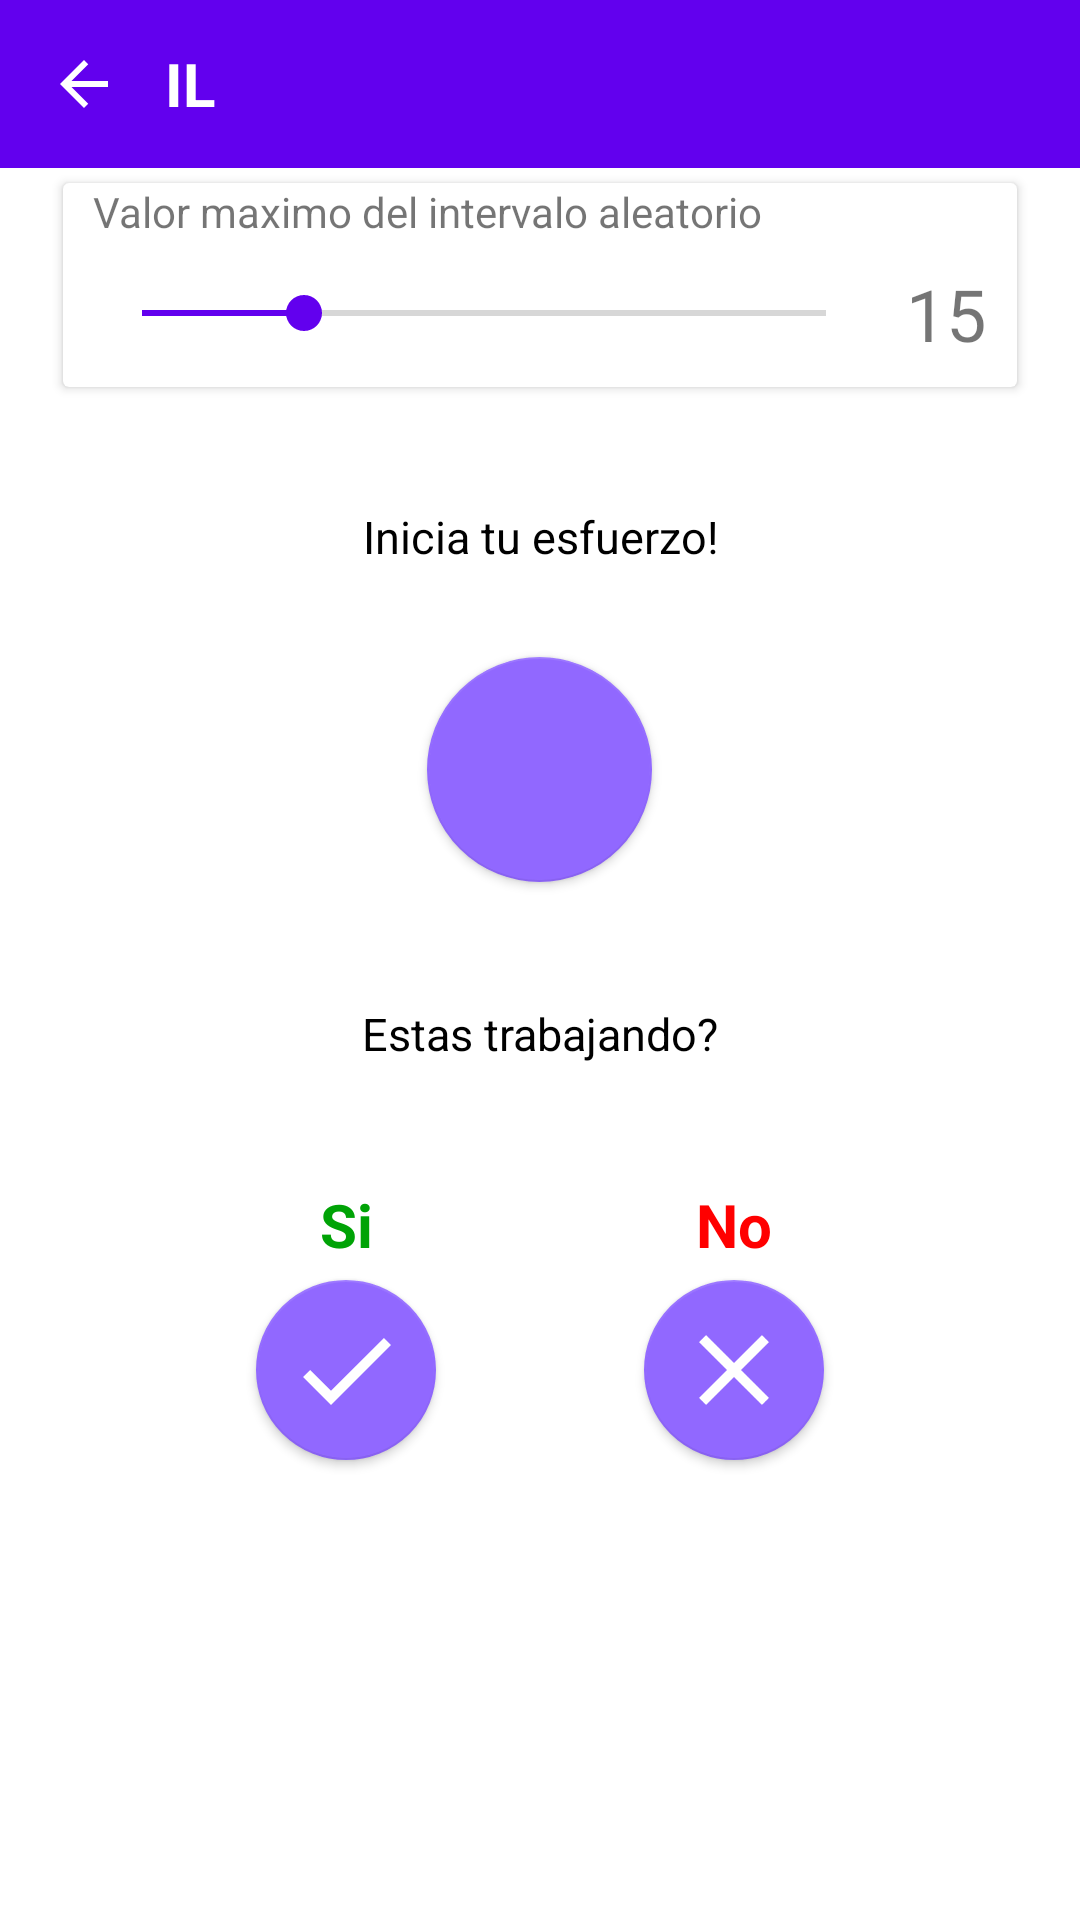

Icon click points for this 1080 × 1920 phone screenshot, format (x,y):
arrow back: (84,84)
check: (346,1370)
close: (734,1370)
